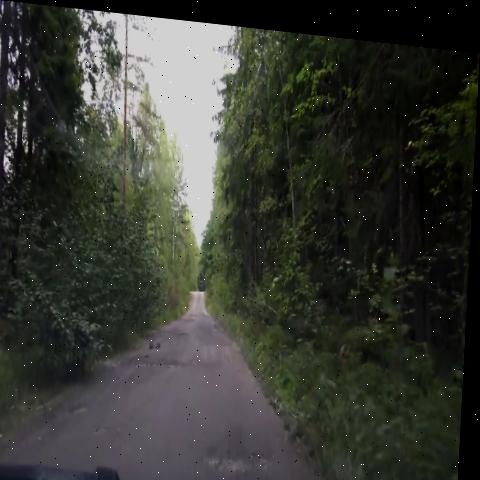pothole: (203, 427, 283, 480), (129, 344, 191, 382), (161, 314, 198, 341), (67, 392, 97, 425), (185, 301, 202, 321)
